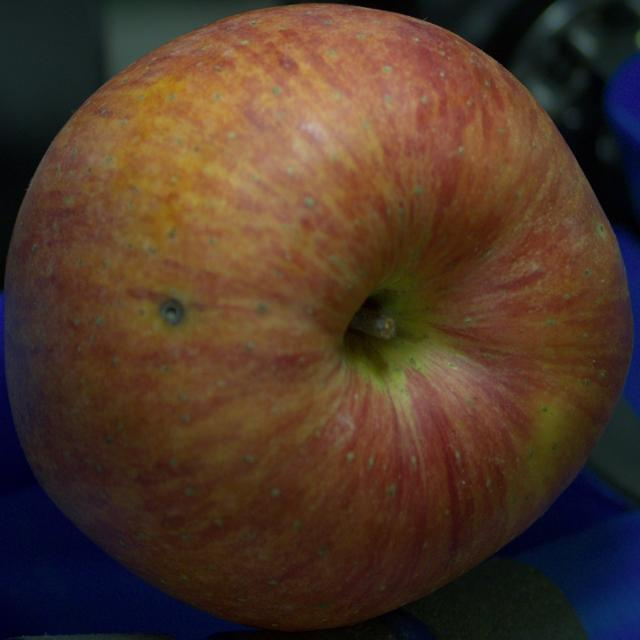apple: (4, 4, 632, 631)
pest: (161, 299, 183, 324)
